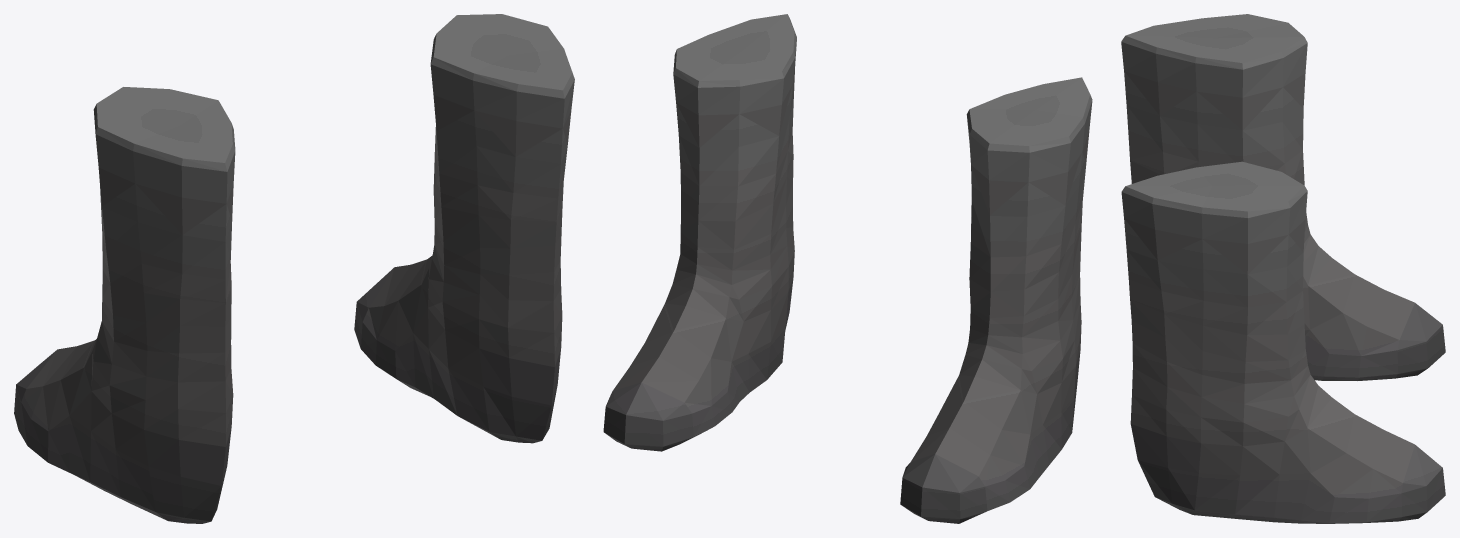
Rendered from CharSkyKid_Feet_ClassicSocks.glb.
The picture shows the model from 3 angles, left to right: view 1: azimuth 30°, elevation 25°; view 2: azimuth 150°, elevation 25°; view 3: azimuth 270°, elevation 25°; orthographic projection. The views are drawn at different scales.
Visible parts, largest first — view 1: CharSkyKid_Feet_ClassicSocks; view 2: CharSkyKid_Feet_ClassicSocks; view 3: CharSkyKid_Feet_ClassicSocks.
Boxes of the visible parts, x1=… form: CharSkyKid_Feet_ClassicSocks: x1=14, y1=14, x2=574, y2=523; CharSkyKid_Feet_ClassicSocks: x1=603, y1=14, x2=1092, y2=523; CharSkyKid_Feet_ClassicSocks: x1=1121, y1=14, x2=1445, y2=523.
Size of the model in its own units: 2.5 by 2.01 by 1.79.
Materials: 1 (1 with a texture image).
